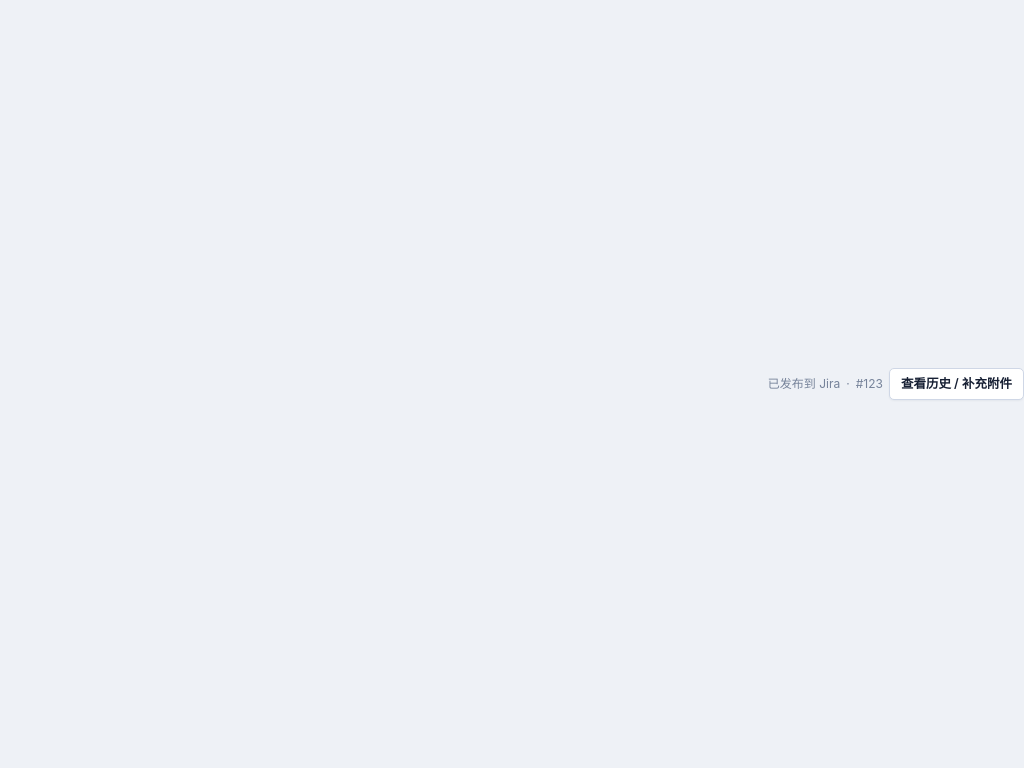
reviewed publication › loads an already published turn as view-only without starting a model
Click the button "查看历史 / 补充附件".
click(956, 384)  # box [889,368,1023,400]
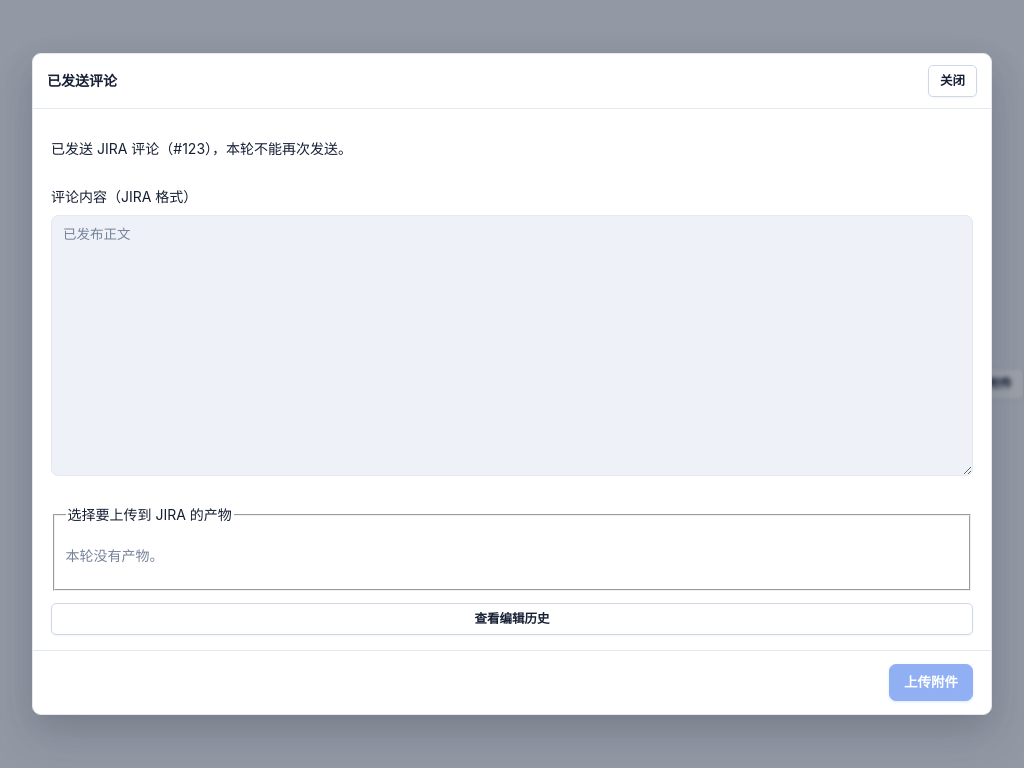
Expected: the text "已发送 JIRA 评论（#123），本轮不能再次发送。" is shown, [51,140,352,157]
Expected: the text box named "JIRA 评论内容" is disabled, [51,215,973,476]
